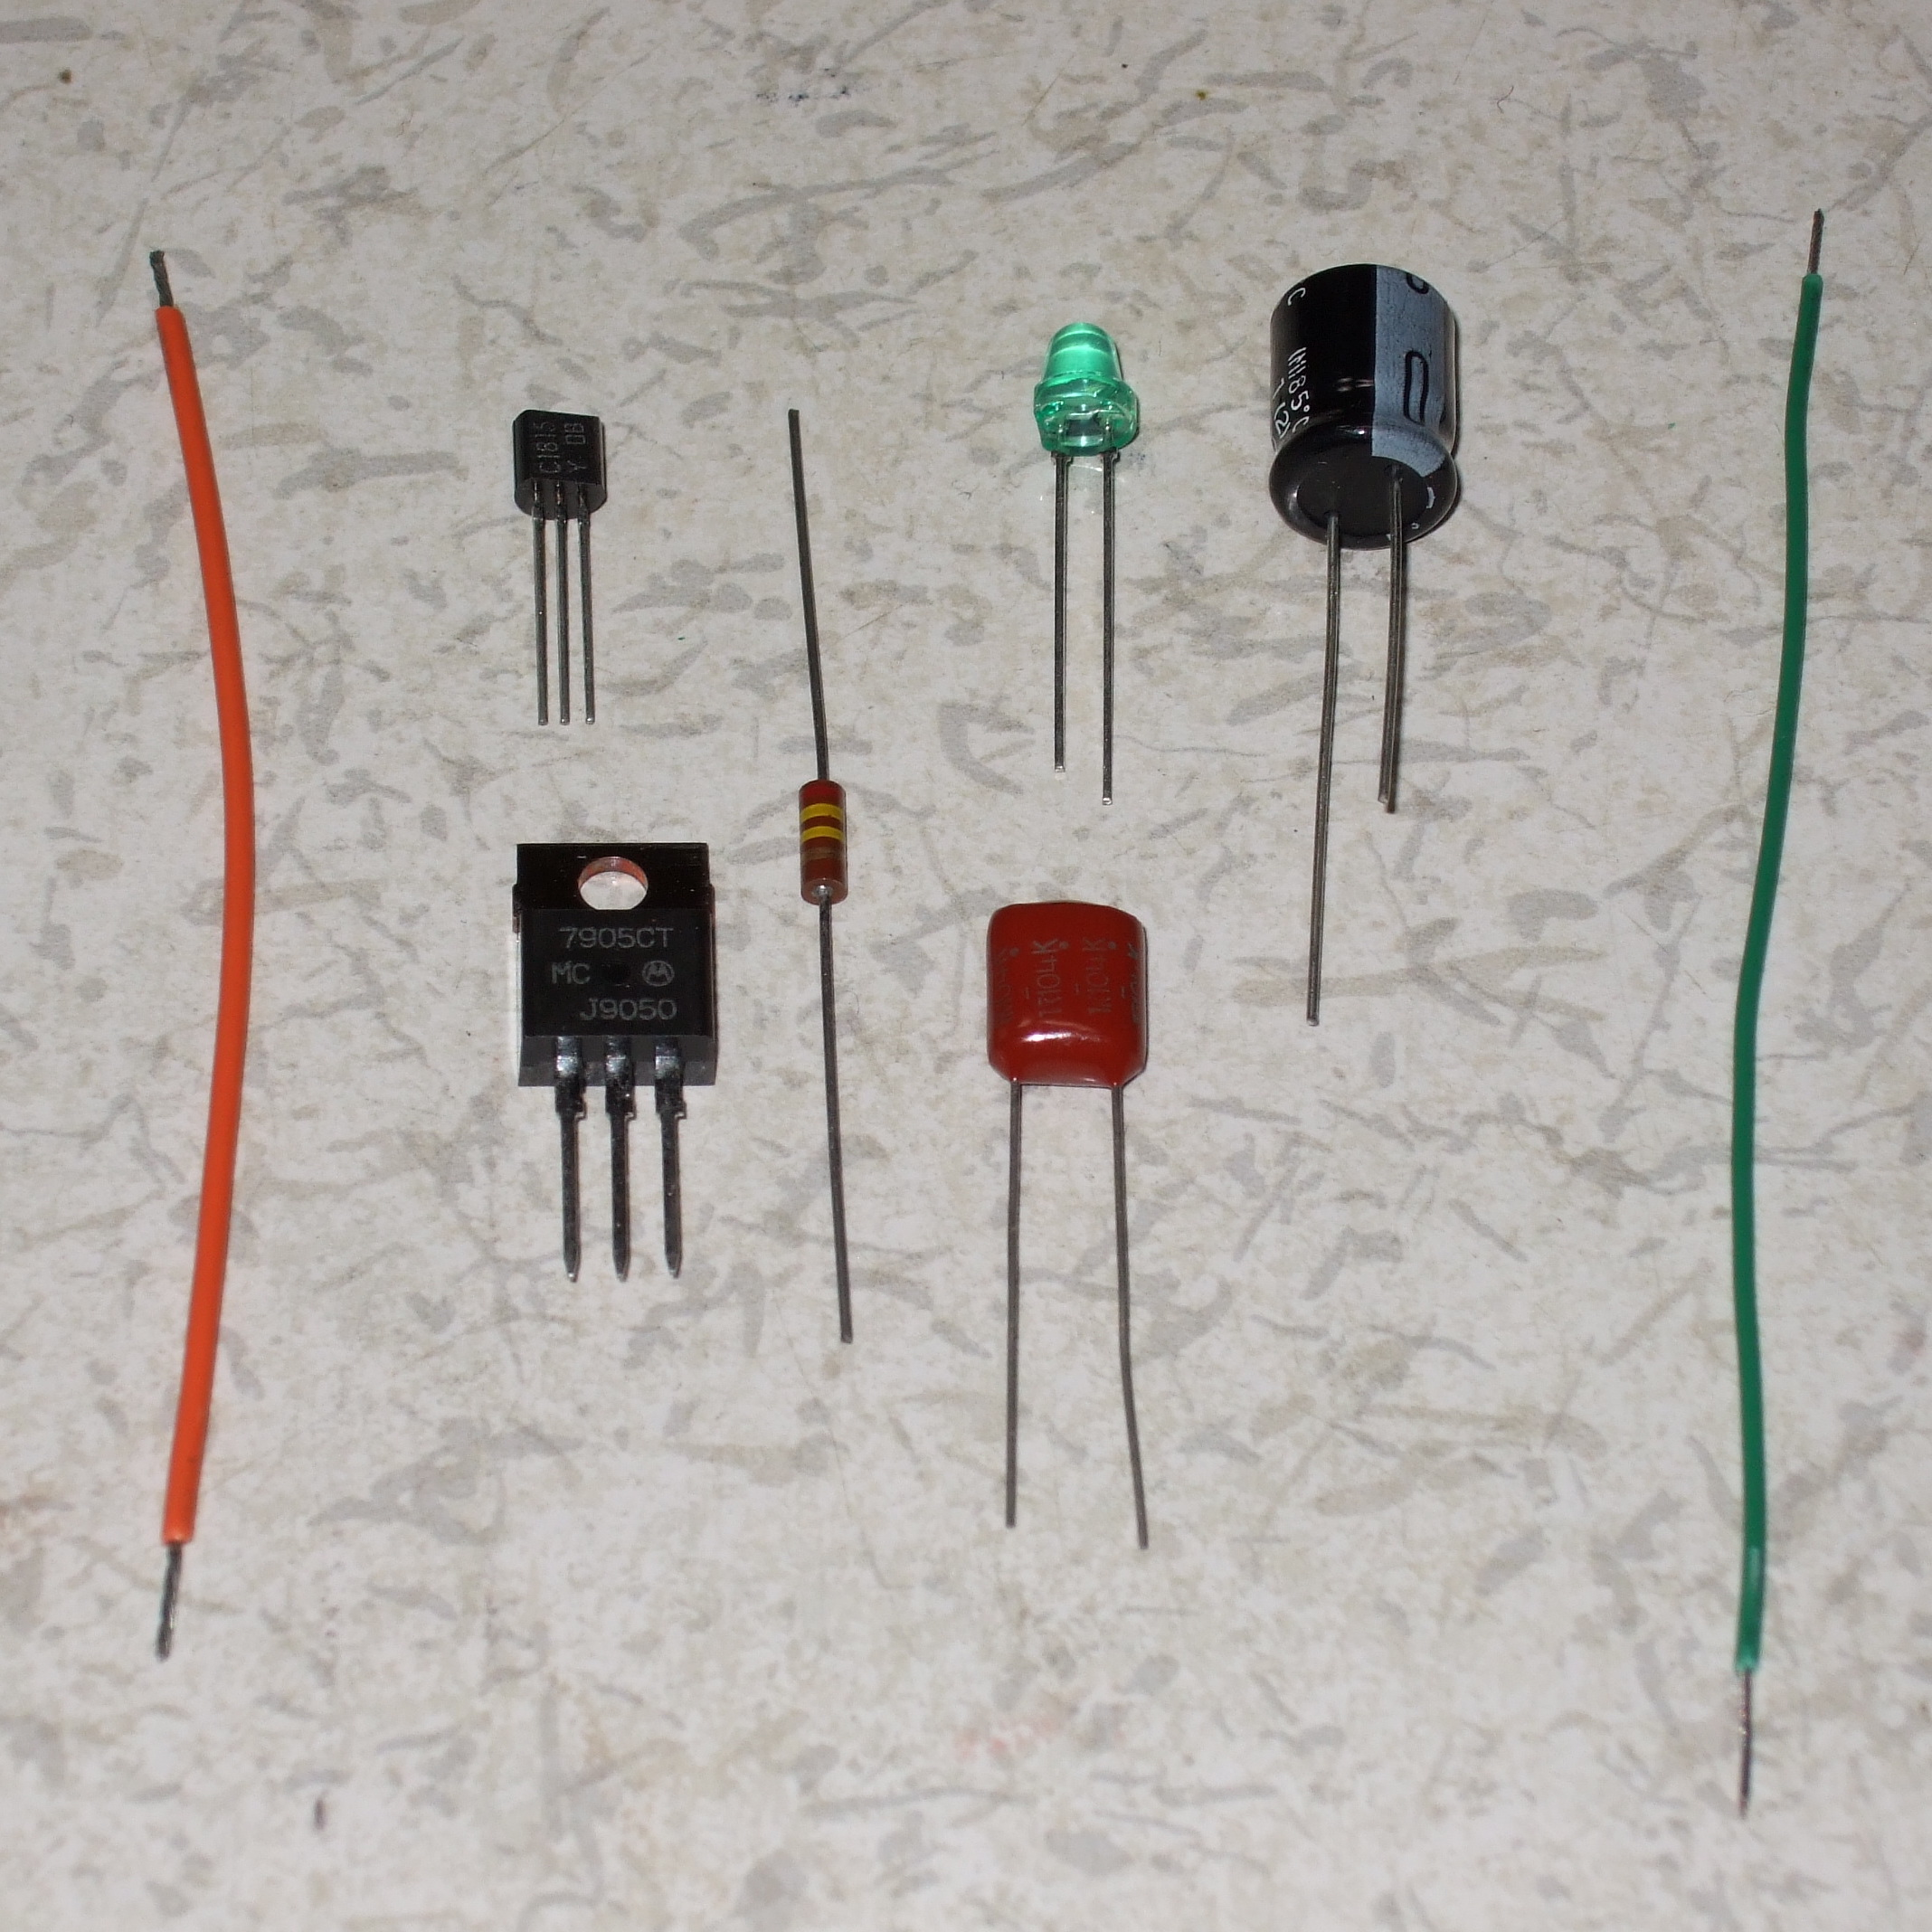Capacitor: (1267, 260, 1467, 548)
LED: (1033, 318, 1145, 462)
Resistor: (794, 775, 849, 911)
